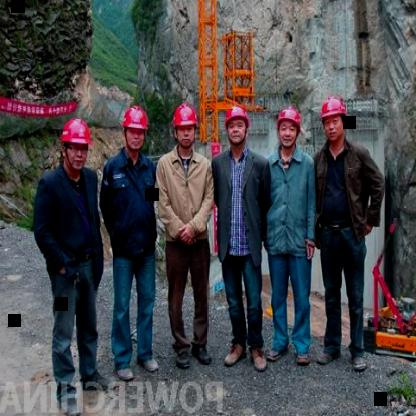helmet: (58, 118, 92, 176), (316, 93, 350, 148), (168, 102, 199, 152), (118, 106, 148, 157), (272, 102, 302, 152), (221, 103, 252, 147)
